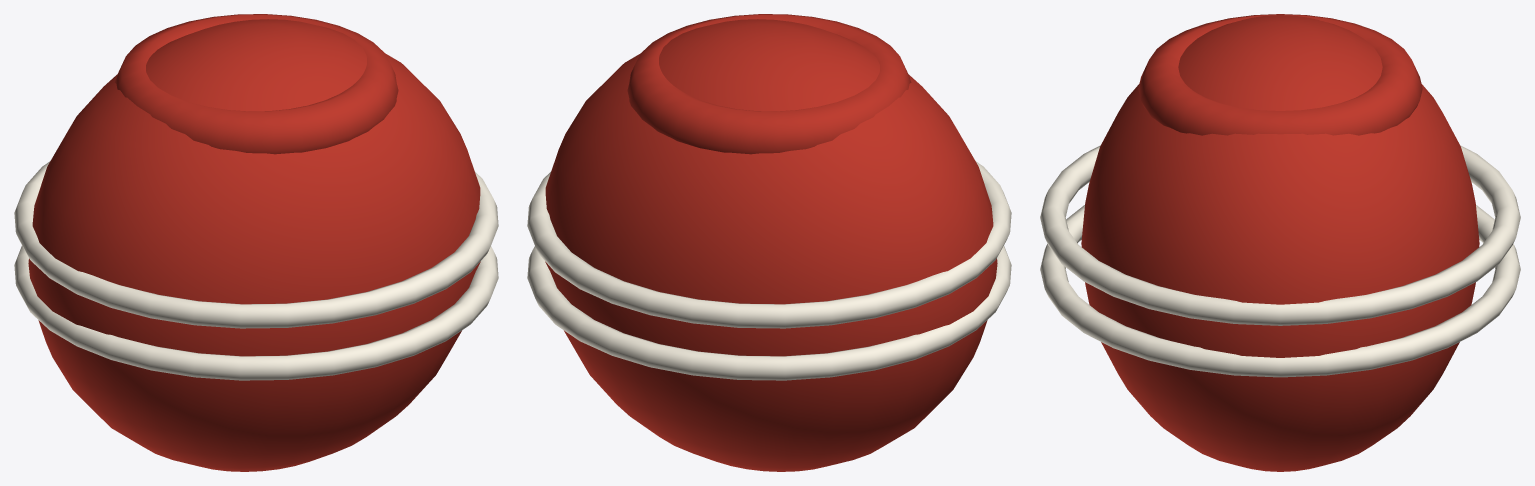
File: coat_knit.glb
3 views of the same model, side by side, from view 1: azimuth 30°, elevation 25°; view 2: azimuth 150°, elevation 25°; view 3: azimuth 270°, elevation 25° (orthographic).
Visible parts, largest first — view 1: knit, collar, stripe.001, stripe; view 2: knit, collar, stripe.001, stripe; view 3: knit, stripe.001, stripe, collar.
Part boxes in pixels (x1,y1,x2,y2): knit: [28, 19, 480, 471]; collar: [114, 14, 398, 154]; stripe.001: [14, 161, 498, 328]; stripe: [14, 246, 498, 380]; knit: [545, 19, 997, 471]; collar: [627, 14, 911, 154]; stripe.001: [527, 161, 1011, 328]; stripe: [527, 246, 1011, 380]; knit: [1081, 15, 1479, 471]; stripe.001: [1040, 145, 1520, 325]; stripe: [1040, 205, 1520, 377]; collar: [1138, 14, 1422, 135].
Bounding box in the file's own units: 0.676 × 0.64 × 0.676.
